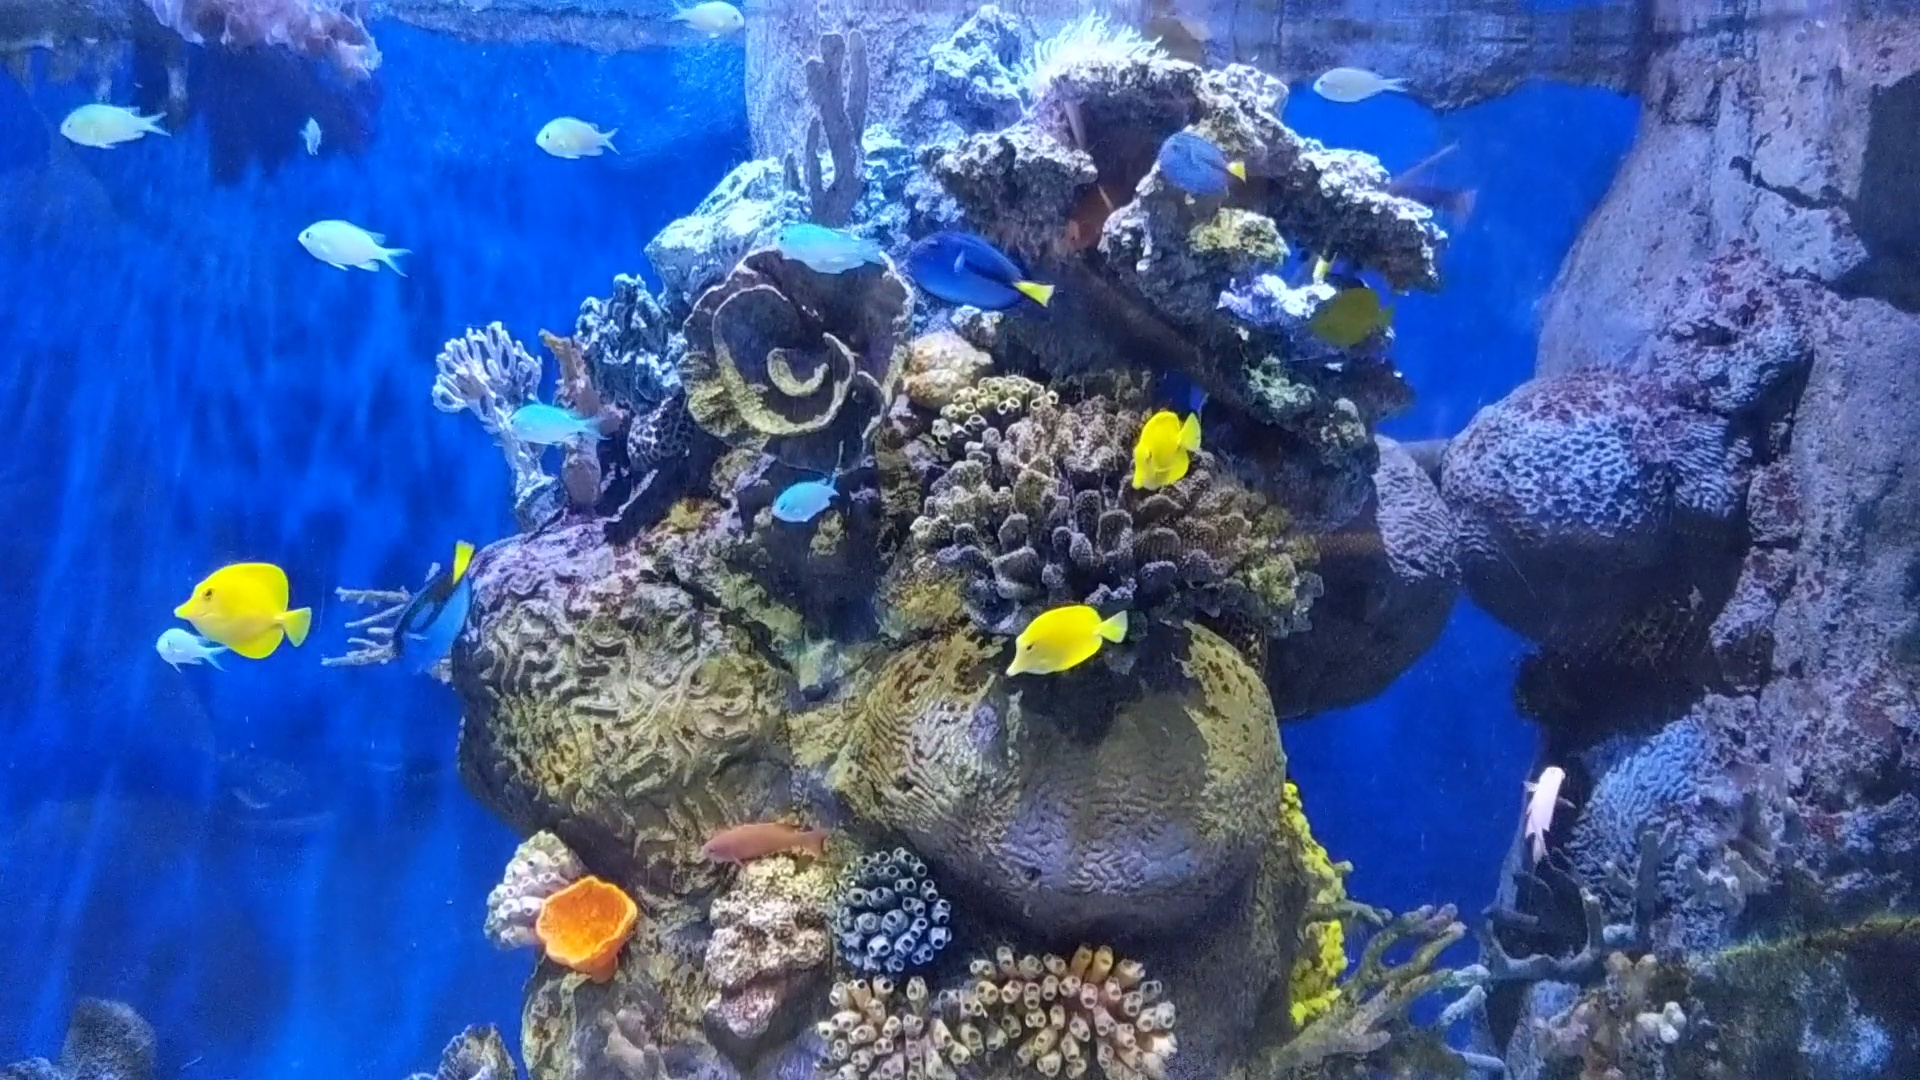blue tang surgeonfish: (357, 510, 504, 694), (887, 218, 1065, 332), (1133, 121, 1254, 214)
damselfish: (756, 196, 905, 286), (45, 80, 174, 173), (280, 207, 411, 287), (522, 105, 626, 177), (484, 394, 612, 448), (145, 618, 240, 688), (760, 458, 855, 526), (1298, 63, 1414, 107), (658, 0, 738, 45)
pink fish: (1510, 742, 1582, 869)
saddle butterfly fish: (170, 549, 322, 682), (985, 592, 1141, 698), (1112, 394, 1225, 504)
